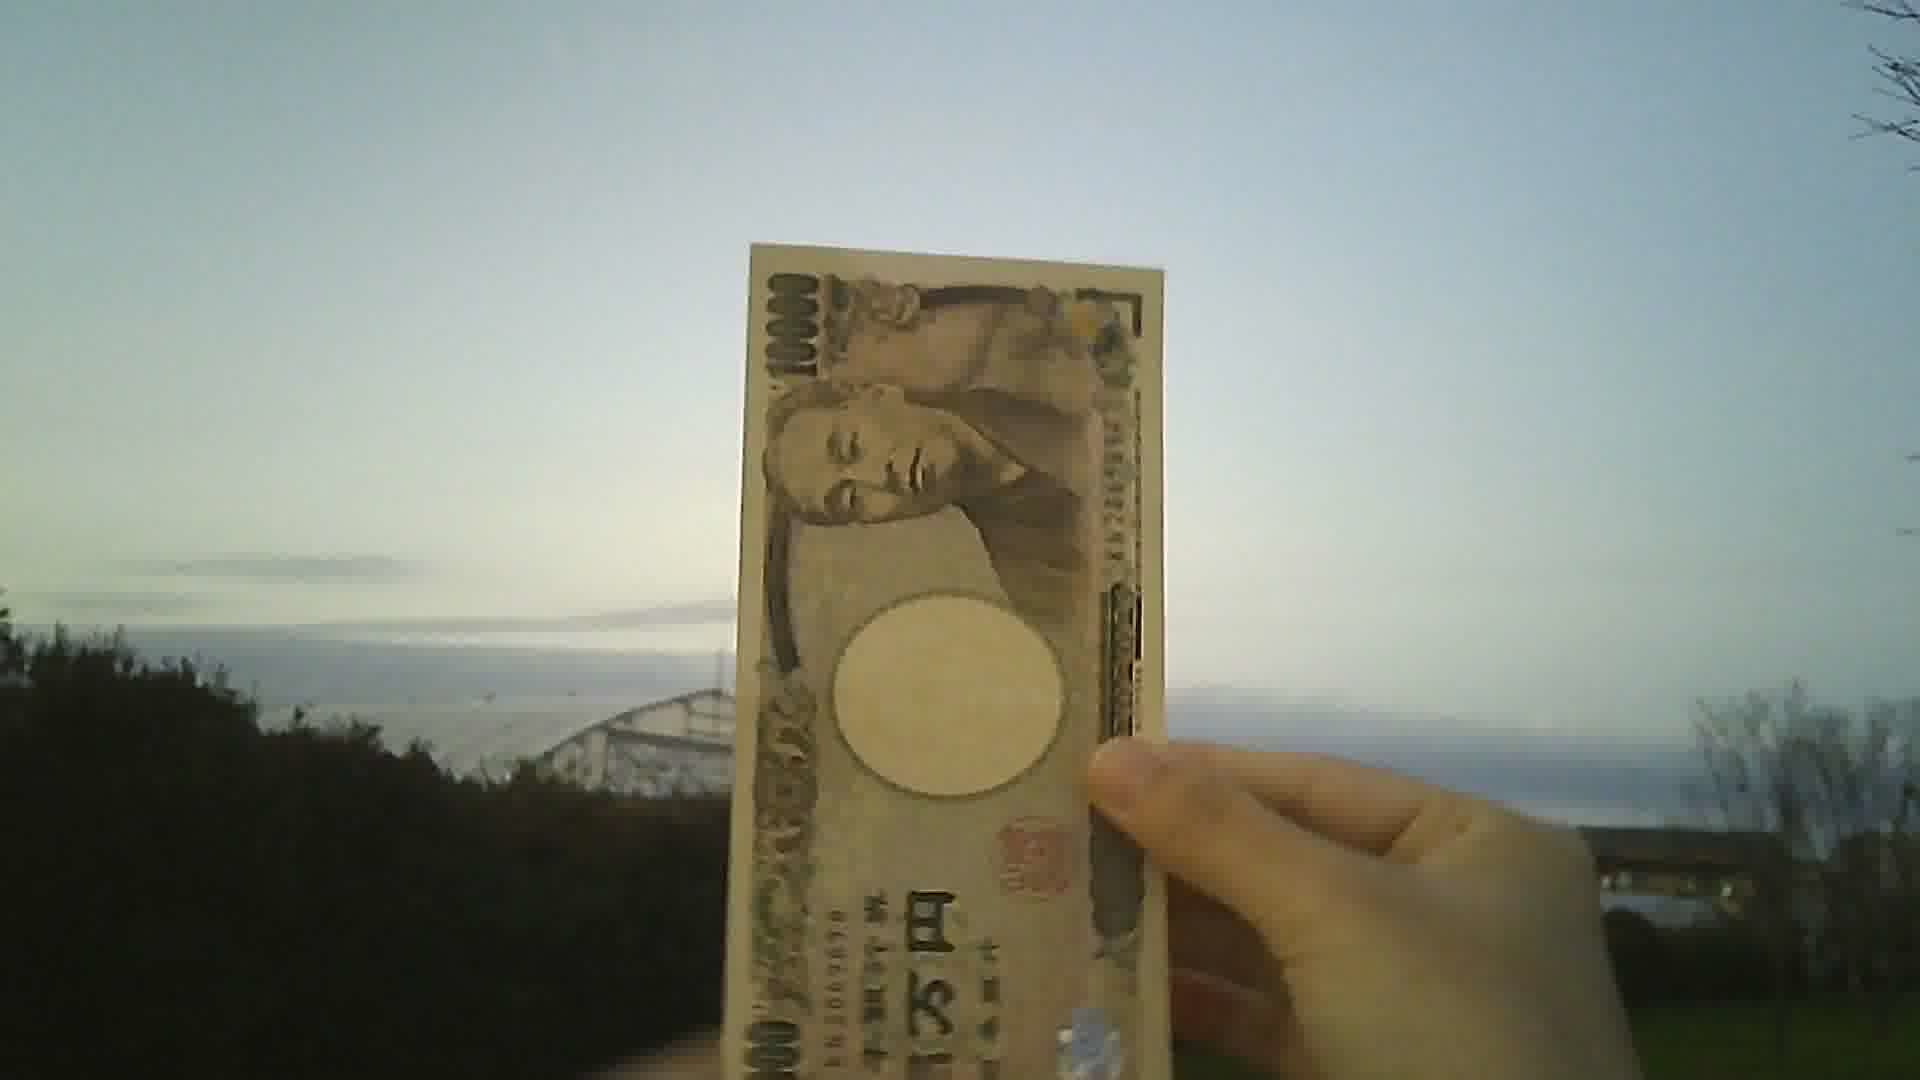10,000 Yen: (698, 233, 1217, 1079)
